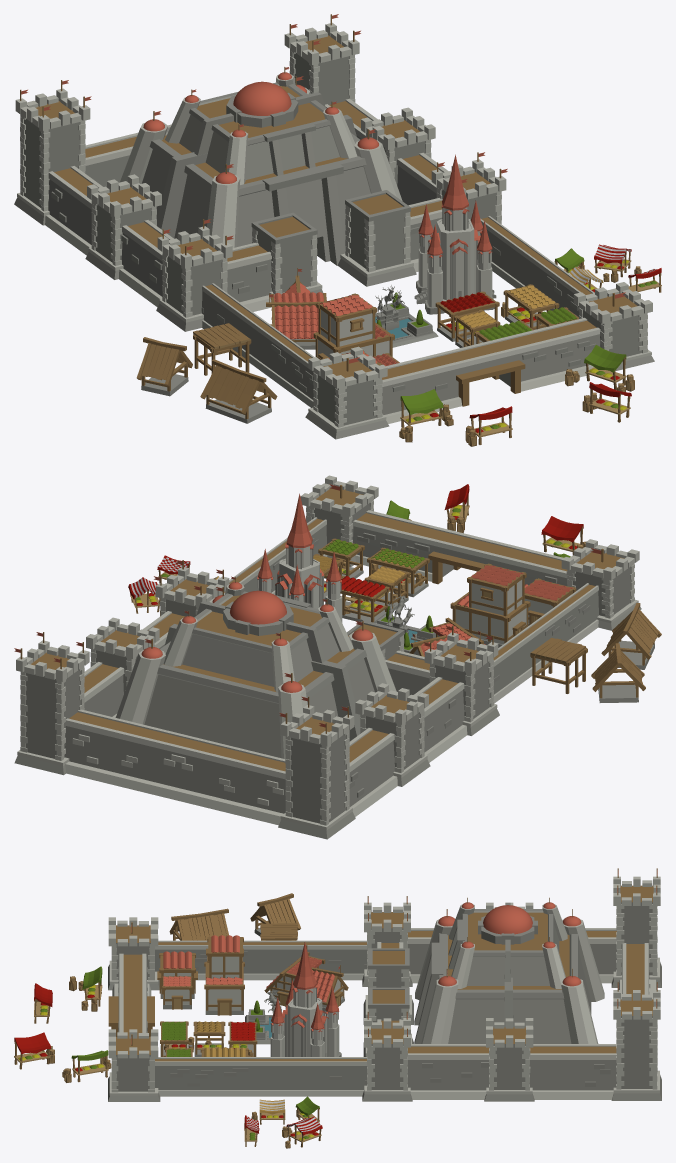
The model's file is civ-MC-I.glb.
3 renders of one model, top to bottom at view 1: azimuth 30°, elevation 25°; view 2: azimuth 150°, elevation 25°; view 3: azimuth 270°, elevation 25°, orthographic. The views are drawn at different scales.
Parts seen in each view (by area): view 1: Wonder_SecondAge_Level3, WallTowers_Door_SecondAge.001, Temple_SecondAge_Level3, Wall_SecondAge.001, Market_SecondAge_Level3, Wall_SecondAge, Houses_SecondAge_3_Level3, Houses_FirstAge_1_Level2, Market_FirstAge_Level1.001, Market_FirstAge_Level1, Houses_SecondAge_2_Level3, Market_FirstAge_Level2 (+3 smaller); view 2: Wonder_SecondAge_Level3, WallTowers_Door_SecondAge.001, Houses_SecondAge_3_Level3, Market_SecondAge_Level3, Wall_SecondAge.001, Temple_SecondAge_Level3, Houses_FirstAge_1_Level2, Houses_FirstAge_1_Level1, Houses_FirstAge_3_Level1, Wall_SecondAge, Market_FirstAge_Level2, TownCenter_SecondAge_Level3 (+3 smaller); view 3: Wonder_SecondAge_Level3, WallTowers_Door_SecondAge.001, Wall_SecondAge, Houses_SecondAge_3_Level3, Wall_SecondAge.001, Temple_SecondAge_Level3, Market_SecondAge_Level3, Market_FirstAge_Level2, Houses_SecondAge_2_Level3, Market_FirstAge_Level1.001, Houses_FirstAge_1_Level2, Market_FirstAge_Level1 (+3 smaller).
Boxes of the visible parts, x1=… form: Wonder_SecondAge_Level3: x1=14, y1=14, x2=507, y2=331; WallTowers_Door_SecondAge.001: x1=305, y1=282, x2=654, y2=439; Temple_SecondAge_Level3: x1=414, y1=154, x2=496, y2=314; Wall_SecondAge.001: x1=201, y1=283, x2=314, y2=407; Market_SecondAge_Level3: x1=435, y1=284, x2=578, y2=347; Wall_SecondAge: x1=480, y1=216, x2=594, y2=316; Houses_SecondAge_3_Level3: x1=313, y1=293, x2=399, y2=366; Houses_FirstAge_1_Level2: x1=200, y1=359, x2=277, y2=423; Market_FirstAge_Level1.001: x1=565, y1=345, x2=634, y2=422; Market_FirstAge_Level1: x1=399, y1=389, x2=512, y2=446; Houses_SecondAge_2_Level3: x1=266, y1=267, x2=326, y2=349; Market_FirstAge_Level2: x1=554, y1=244, x2=661, y2=292; Wonder_SecondAge_Level3: x1=14, y1=560, x2=499, y2=839; WallTowers_Door_SecondAge.001: x1=300, y1=475, x2=641, y2=630; Houses_SecondAge_3_Level3: x1=450, y1=563, x2=576, y2=647; Market_SecondAge_Level3: x1=313, y1=538, x2=429, y2=623; Wall_SecondAge.001: x1=493, y1=583, x2=598, y2=703; Temple_SecondAge_Level3: x1=257, y1=493, x2=342, y2=622; Houses_FirstAge_1_Level2: x1=601, y1=603, x2=661, y2=669; Houses_FirstAge_1_Level1: x1=591, y1=643, x2=645, y2=702; Houses_FirstAge_3_Level1: x1=530, y1=637, x2=587, y2=693; Wall_SecondAge: x1=224, y1=517, x2=327, y2=594; Market_FirstAge_Level2: x1=128, y1=555, x2=219, y2=616; TownCenter_SecondAge_Level3: x1=377, y1=594, x2=435, y2=652; Wonder_SecondAge_Level3: x1=362, y1=868, x2=661, y2=1101; WallTowers_Door_SecondAge.001: x1=108, y1=917, x2=160, y2=1101; Wall_SecondAge: x1=155, y1=1057, x2=367, y2=1096; Houses_SecondAge_3_Level3: x1=157, y1=935, x2=244, y2=1015; Wall_SecondAge.001: x1=155, y1=940, x2=367, y2=980; Temple_SecondAge_Level3: x1=270, y1=942, x2=341, y2=1056; Market_SecondAge_Level3: x1=160, y1=1021, x2=257, y2=1056; Market_FirstAge_Level2: x1=244, y1=1096, x2=322, y2=1148; Houses_SecondAge_2_Level3: x1=264, y1=945, x2=348, y2=1011; Market_FirstAge_Level1.001: x1=14, y1=1032, x2=111, y2=1082; Houses_FirstAge_1_Level2: x1=169, y1=908, x2=228, y2=940; Market_FirstAge_Level1: x1=34, y1=966, x2=102, y2=1023.
Bounding box in the file's own units: 7.66 × 2.24 × 9.73.
